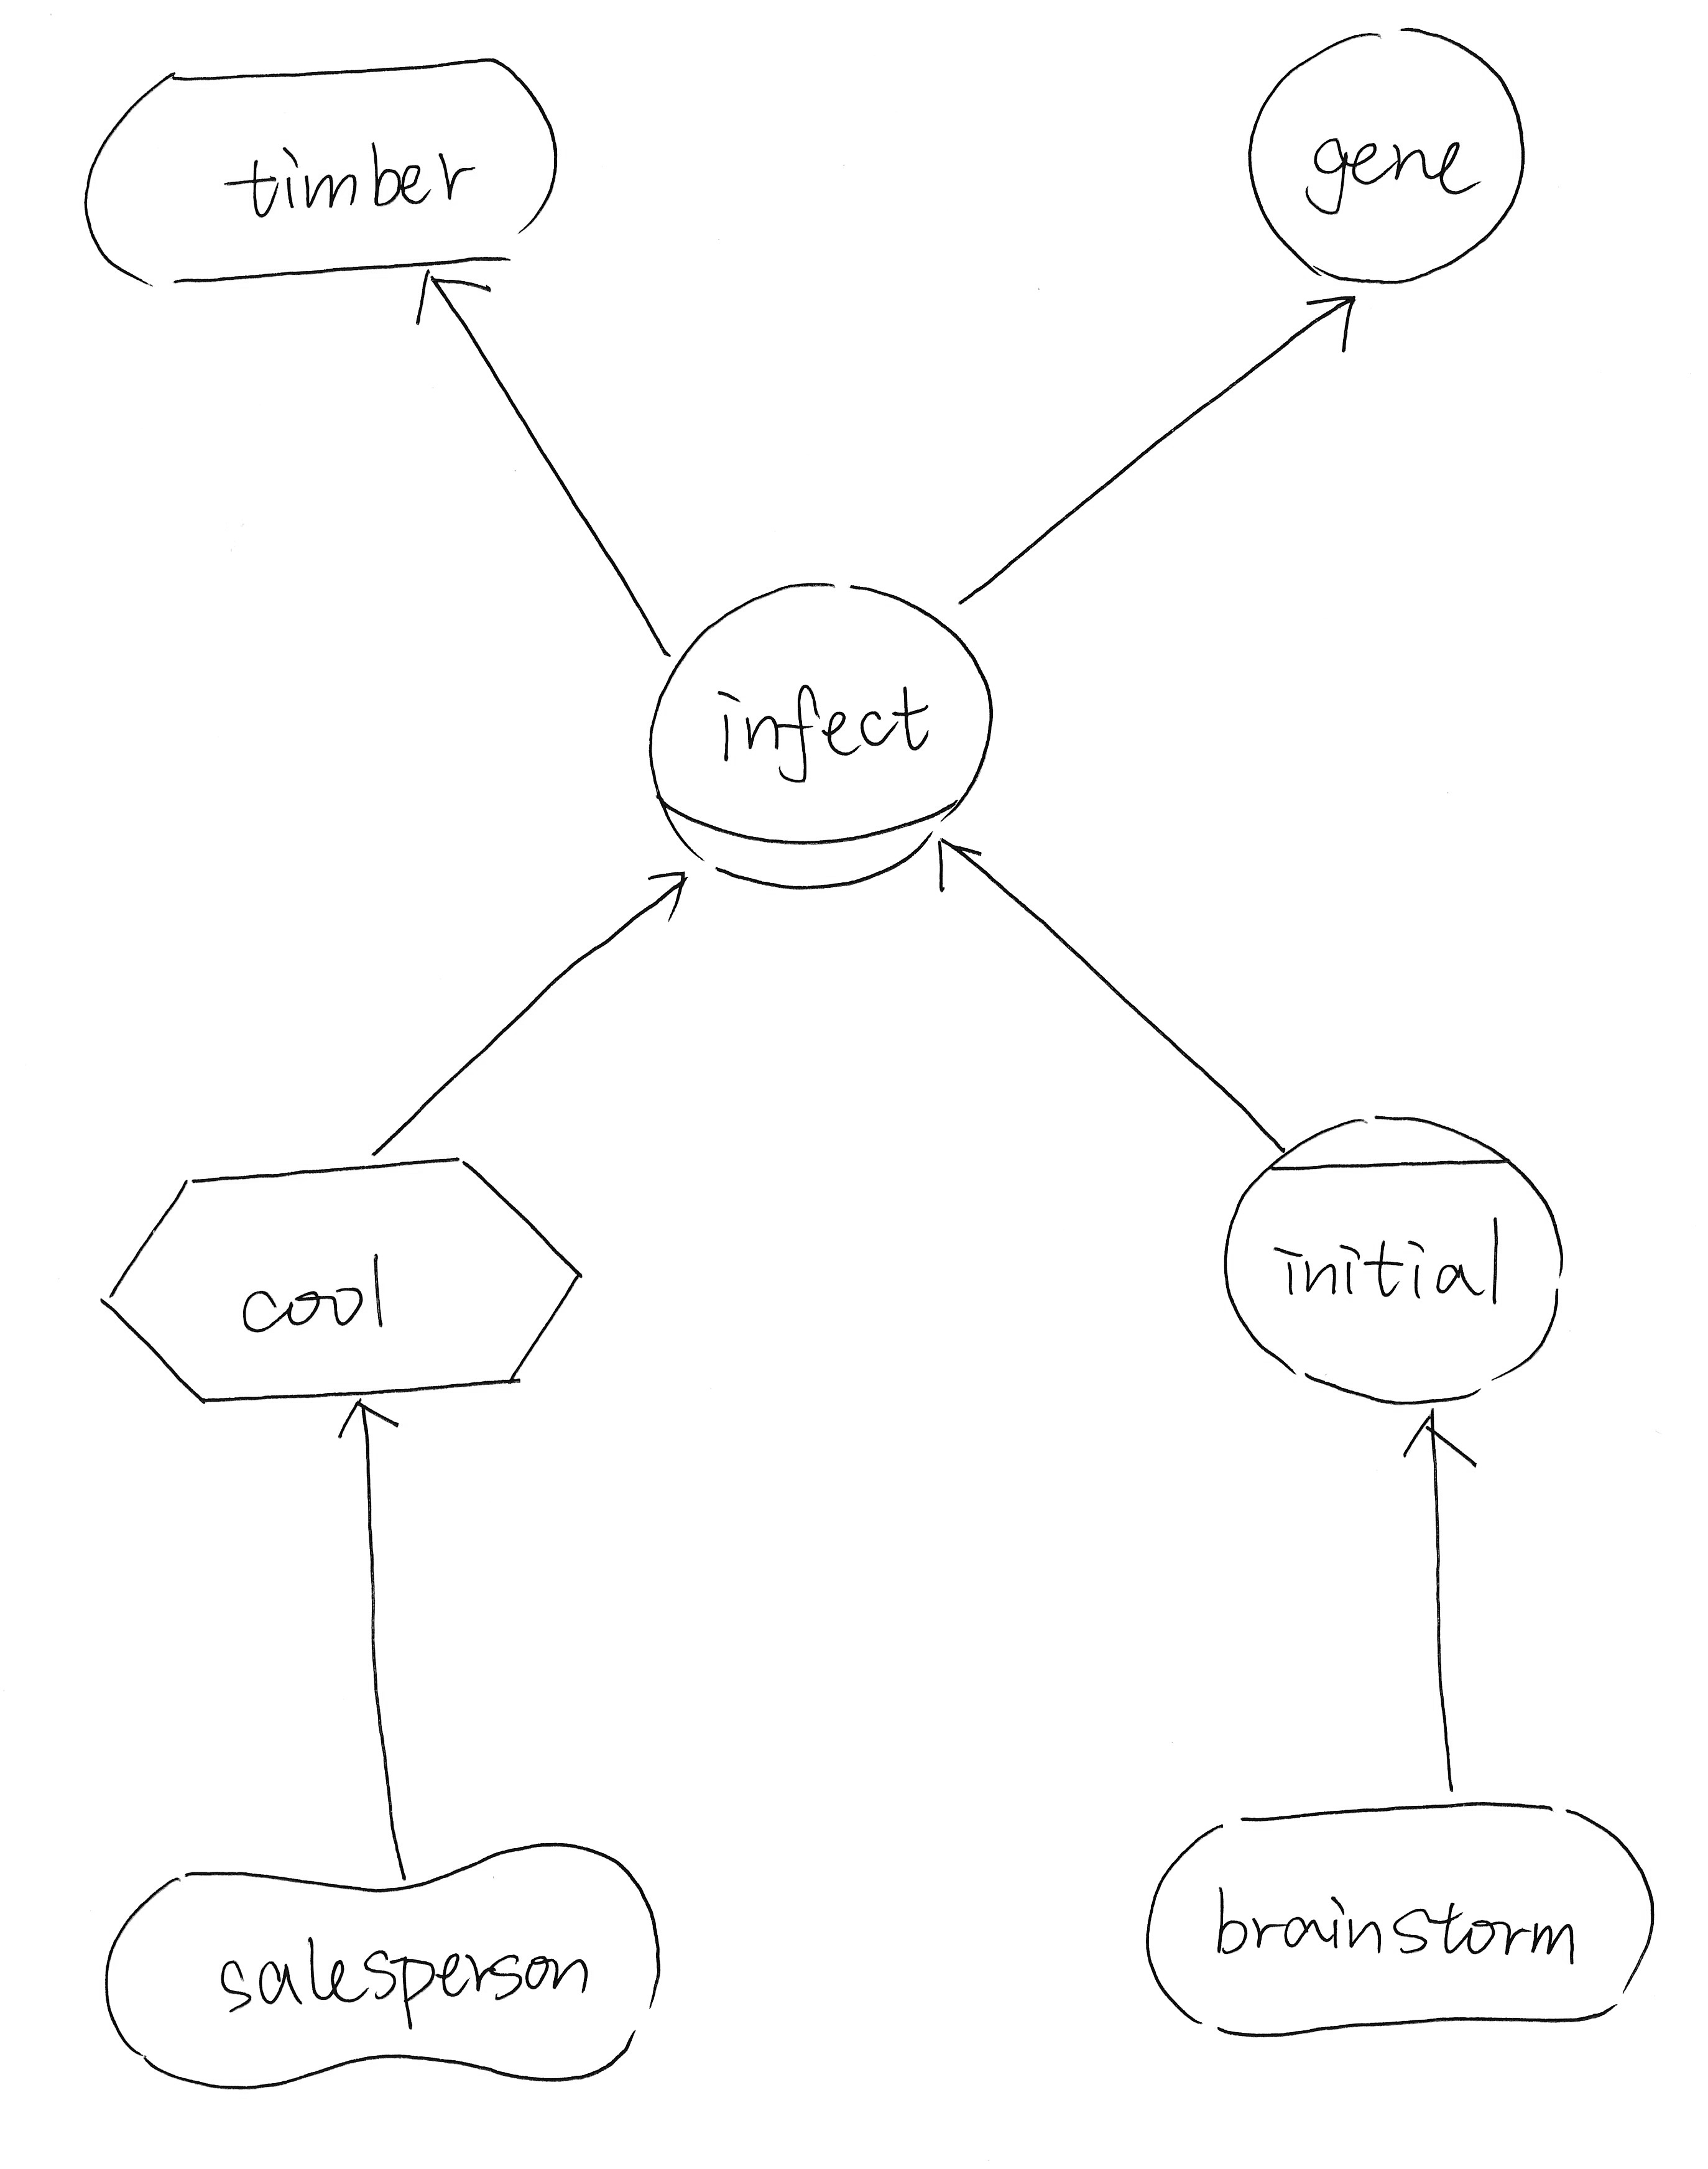actor: (1224, 12, 1541, 305)
agent: (1208, 1102, 1585, 1430)
arrow: (394, 257, 504, 333), (1395, 1401, 1484, 1481), (1291, 283, 1375, 359), (313, 1391, 414, 1452), (921, 822, 993, 907), (615, 859, 703, 924)
goal: (1130, 1783, 1664, 2051), (67, 42, 565, 301)
quality: (81, 1820, 676, 2120)
role: (629, 565, 1007, 900)
task: (85, 1136, 597, 1430)
